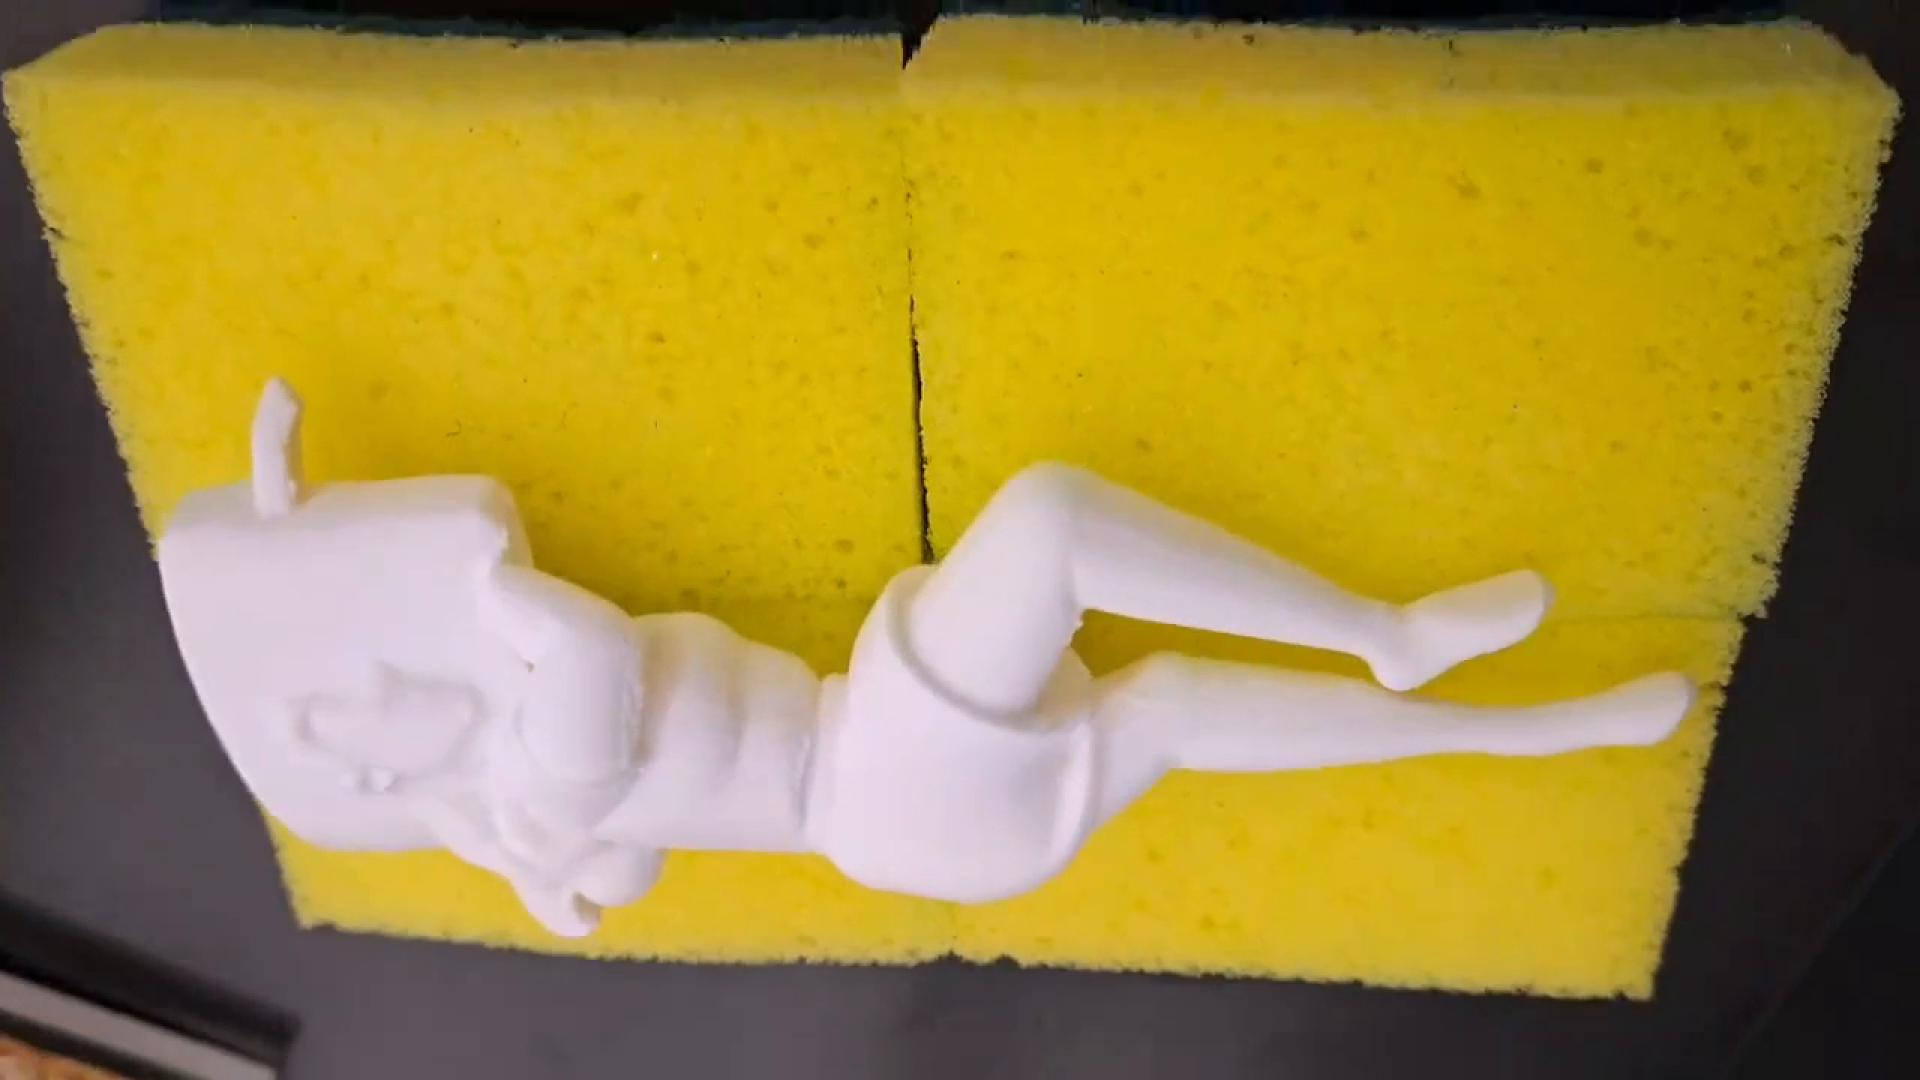Good-style: (142, 368, 1693, 951)
